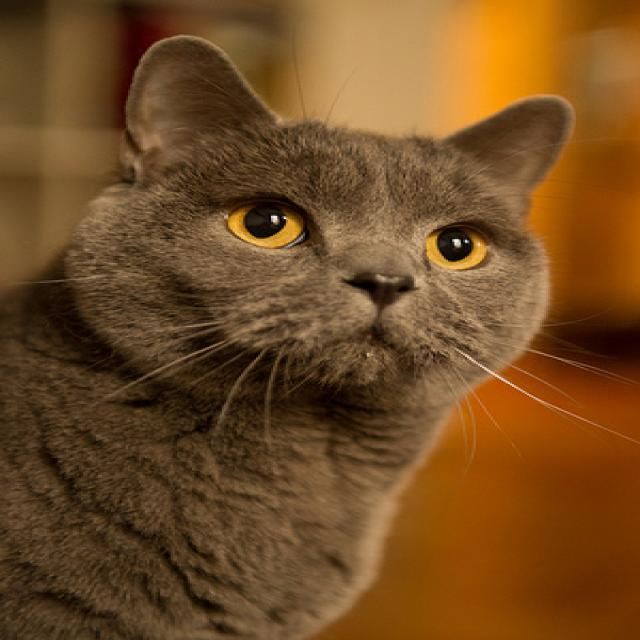British Shorthair: (0, 25, 589, 640)
